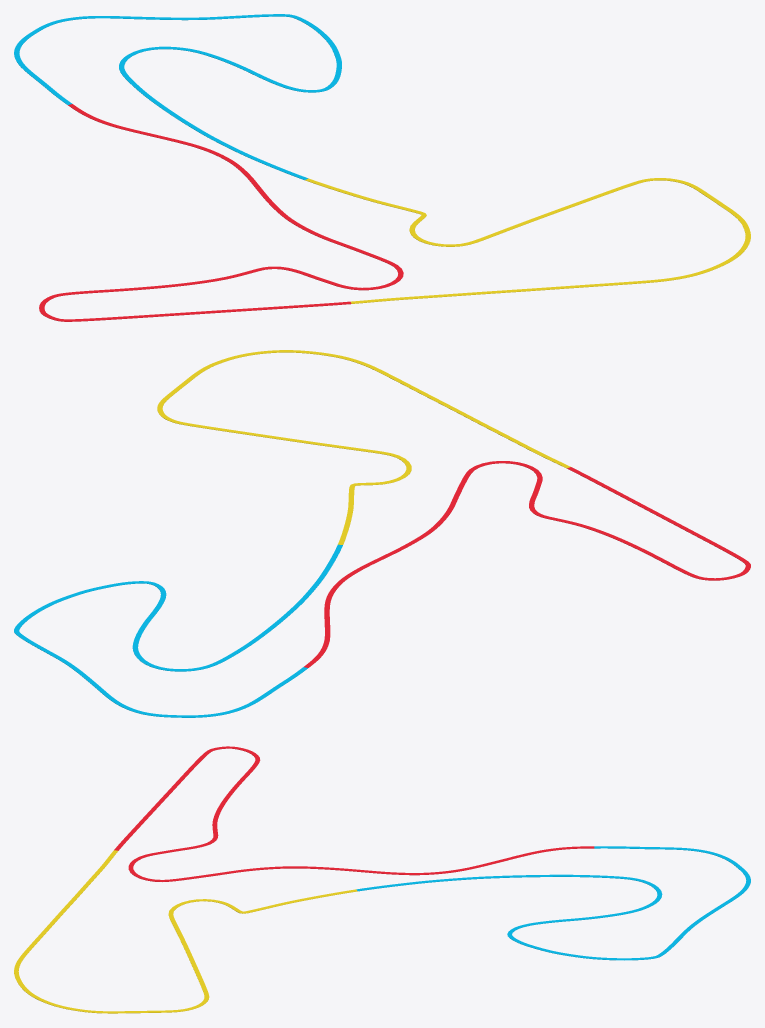
File: ZandvoortSectors.glb
The picture shows the model from 3 angles, top to bottom: view 1: azimuth 30°, elevation 25°; view 2: azimuth 150°, elevation 25°; view 3: azimuth 270°, elevation 25°; orthographic projection. The views are drawn at different scales.
Visible parts, largest first — view 1: SectorStrip_1, SectorStrip_2, SectorStrip_3; view 2: SectorStrip_1, SectorStrip_2, SectorStrip_3; view 3: SectorStrip_1, SectorStrip_2, SectorStrip_3.
Boxes of the visible parts, bbox=[...] form: SectorStrip_1: bbox=[39, 104, 403, 321]; SectorStrip_2: bbox=[14, 14, 341, 180]; SectorStrip_3: bbox=[305, 178, 750, 303]; SectorStrip_1: bbox=[304, 461, 750, 667]; SectorStrip_2: bbox=[14, 544, 342, 717]; SectorStrip_3: bbox=[157, 350, 570, 544]; SectorStrip_1: bbox=[114, 746, 594, 881]; SectorStrip_2: bbox=[356, 846, 750, 960]; SectorStrip_3: bbox=[14, 850, 357, 1013].
Size of the model in its own units: 15.84 by 0.006 by 18.49.
